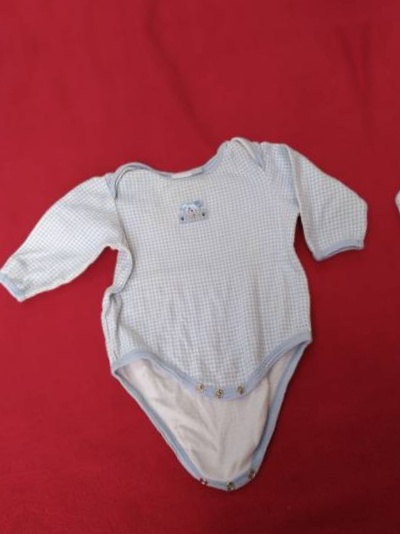Body: (0, 84, 400, 534), (0, 146, 23, 534), (387, 17, 400, 470)
